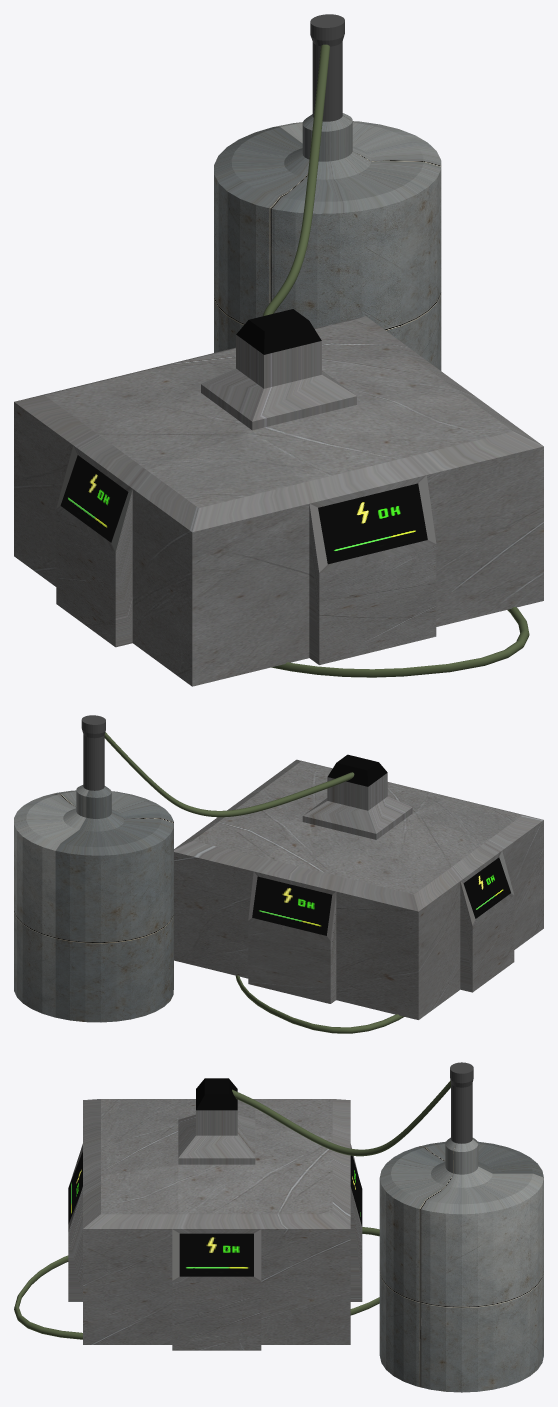
File: charging_station_small.glb
3 views of the same model, one above another, from view 1: azimuth 30°, elevation 25°; view 2: azimuth 150°, elevation 25°; view 3: azimuth 270°, elevation 25° (orthographic). The views are drawn at different scales.
Parts seen in each view (by area): view 1: Cube, Cylinder, NurbsPath; view 2: Cube, Cylinder, NurbsPath; view 3: Cube, Cylinder, NurbsPath.
Part boxes in pixels (left/top/right/bottom): Cube: left=14, top=309, right=543, bottom=686; Cylinder: left=214, top=14, right=441, bottom=370; NurbsPath: left=263, top=44, right=529, bottom=677; Cube: left=174, top=754, right=543, bottom=1019; Cylinder: left=14, top=715, right=173, bottom=1022; NurbsPath: left=104, top=732, right=404, bottom=1033; Cube: left=68, top=1078, right=362, bottom=1350; Cylinder: left=379, top=1062, right=543, bottom=1392; NurbsPath: left=14, top=1080, right=450, bottom=1339.
Size of the model in its own units: 1.26 by 0.9367 by 1.52.
6 materials, 3 textured.
